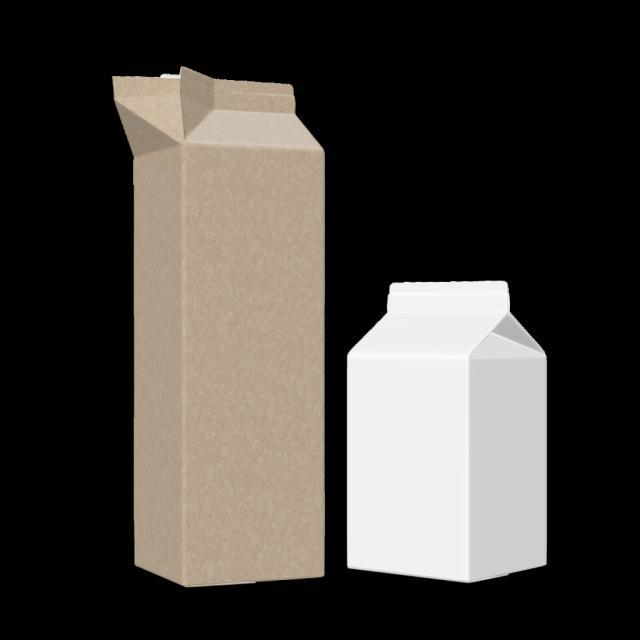Carton: (104, 59, 333, 590), (338, 272, 559, 596)
